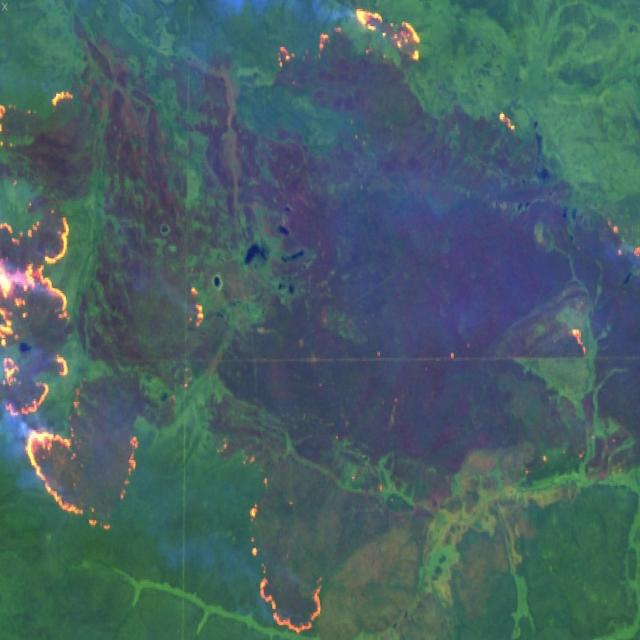fire: (0, 84, 147, 533), (234, 494, 328, 640), (270, 0, 438, 76)
